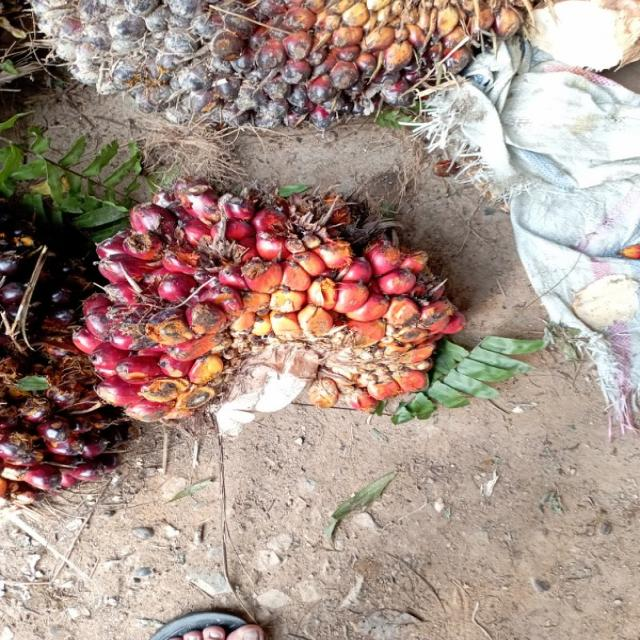fraksi 3: (16, 142, 514, 466)
